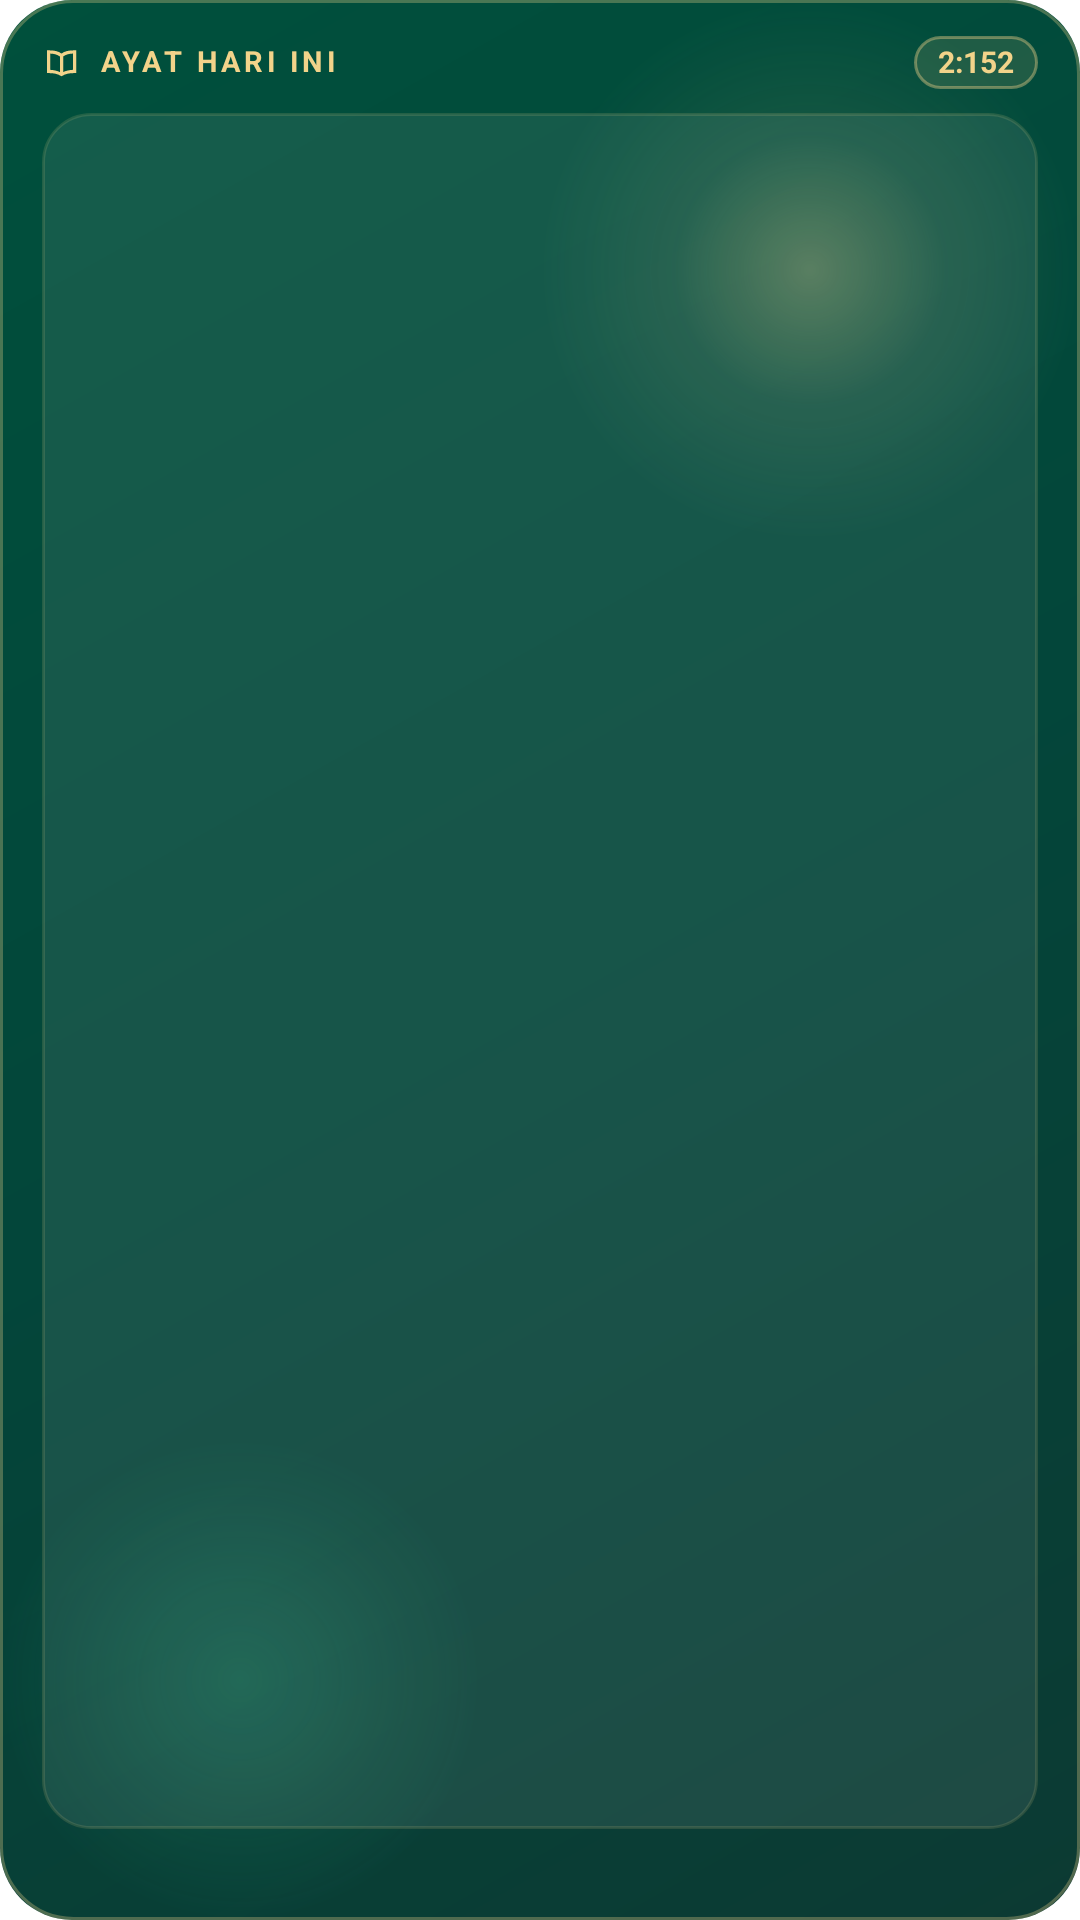

Icon click points for this 1080px×1920px phone screenshot, format point (x, y):
tracker book: point (62, 63)
